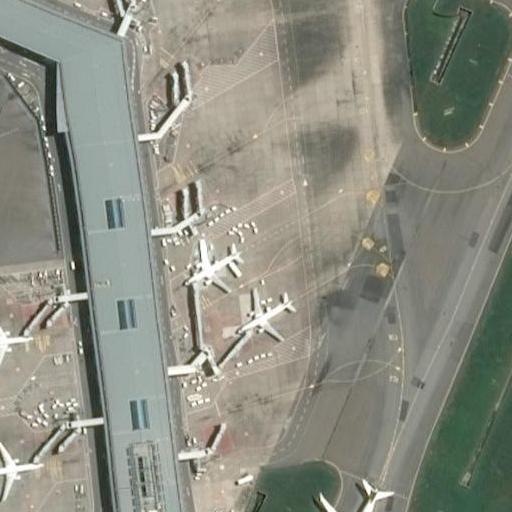Aircraft: (316, 472, 414, 512), (235, 288, 303, 342), (187, 236, 250, 291), (0, 438, 40, 501), (0, 311, 31, 368)
